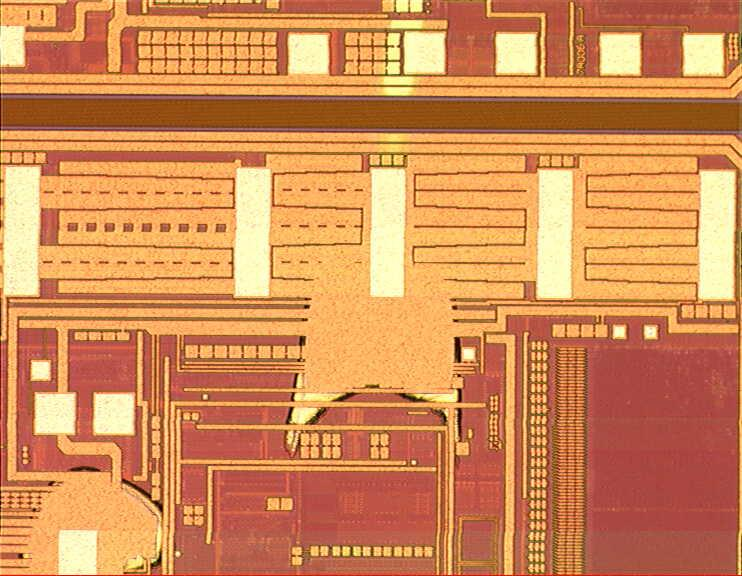BLOCK ETCH: (19, 250, 471, 576)
